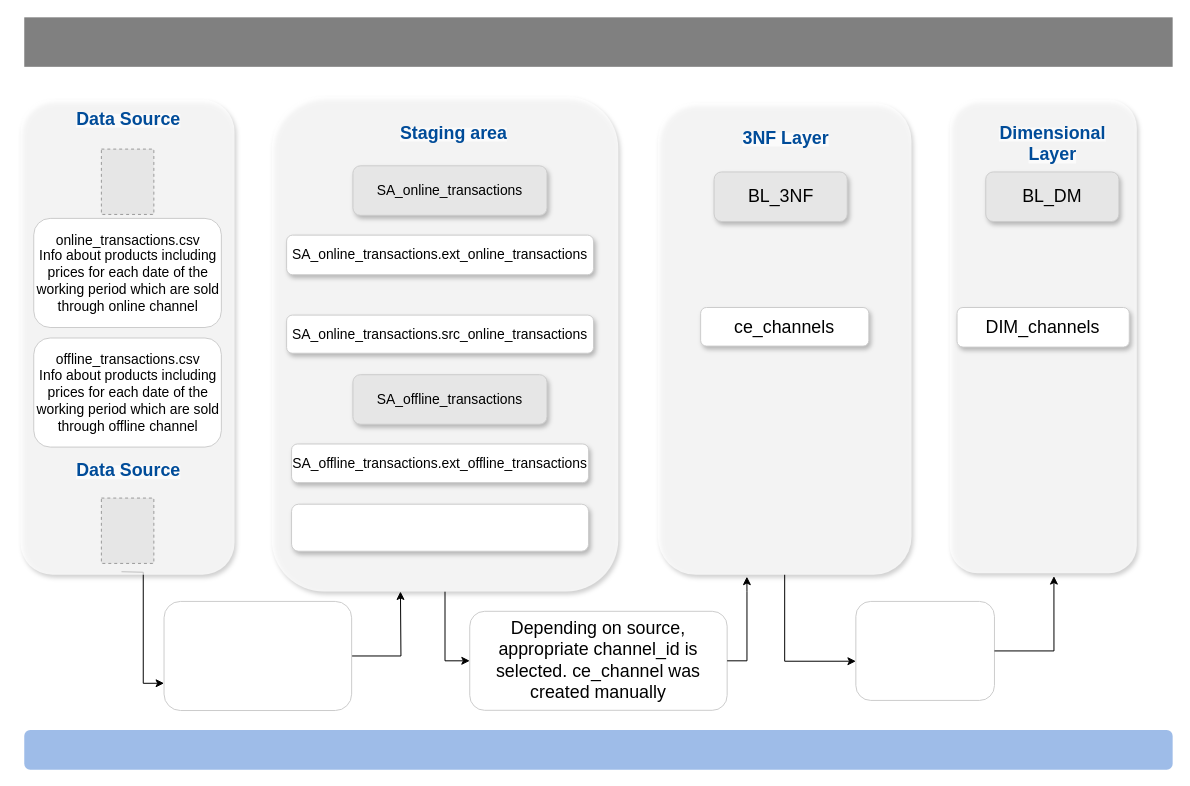
Image size: 1190x786. Some labels were removed from this diagram. Grey dashed boxes stand in for pictures. Each missing label, with the centre of its shape:
Data Flow Diagram of DIM_channels: point 598,41
Loading data into staging area of DWH: point 257,655
Loading data to BL_DM Layer, generation of surrogate keys: point 924,650
METADATA: point 598,749
SA_offline_transactions.src_offline_transactions: point 440,528
